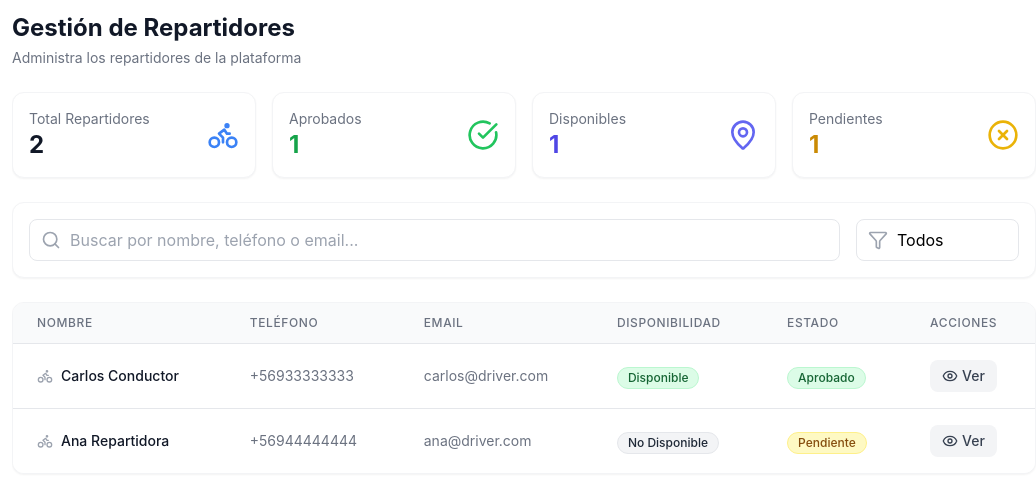
Test case: Drivers Component › Filtros › debe buscar repartidores por nombre
Check: the text "Carlos Conductor" is shown, box [61,366,179,386]
In the field with placeholder "Buscar por nombre, teléfono o email...": (434,240) [29,219,840,261], type "Ana"
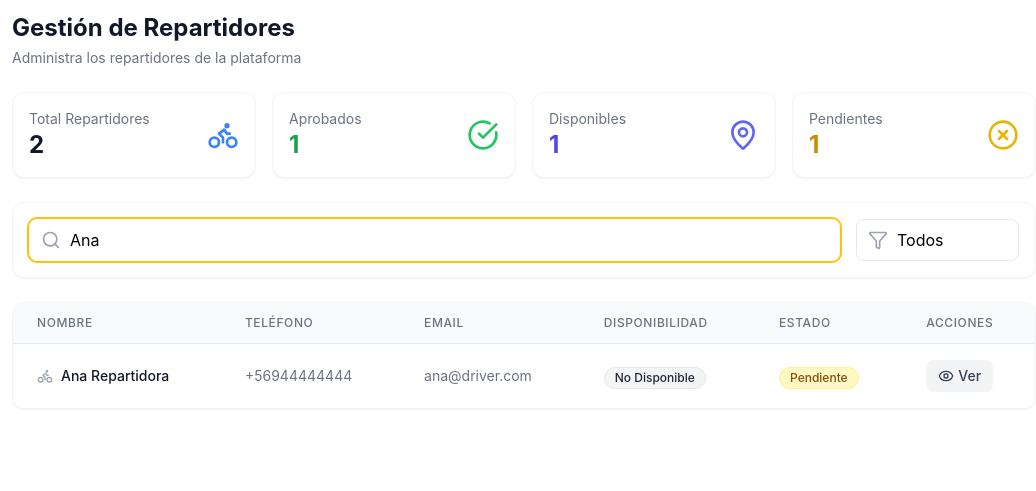
Check: the text "Ana Repartidora" is shown, box [61,366,169,386]
Check: the text "Carlos Conductor" is gone
